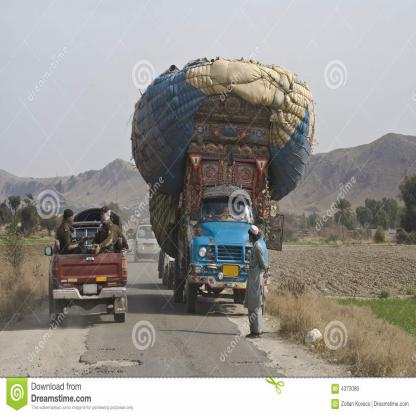overloaded-truck: (128, 38, 306, 327)
